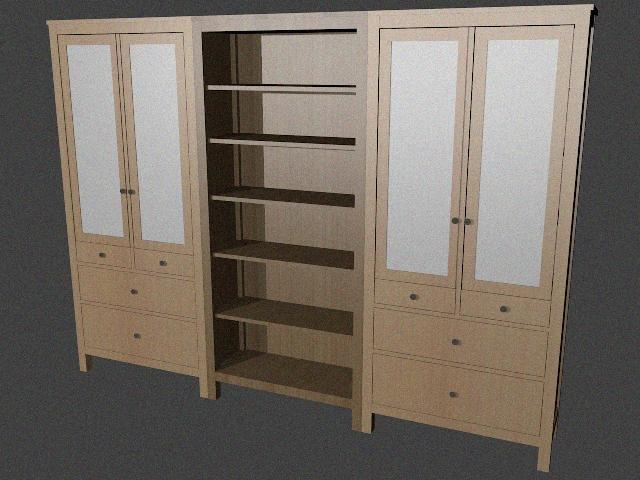cabinet_door: (468, 25, 563, 294), (376, 27, 462, 283), (128, 33, 188, 252), (66, 34, 123, 244), (373, 368, 542, 420), (374, 320, 546, 363), (83, 314, 198, 358), (79, 274, 196, 309), (461, 295, 550, 322), (374, 284, 456, 308), (134, 252, 194, 273), (76, 244, 131, 264)
handle: (445, 387, 459, 401), (449, 335, 461, 351), (128, 285, 141, 299), (156, 256, 169, 270), (131, 330, 144, 343), (127, 186, 139, 199), (96, 250, 108, 262), (499, 304, 510, 316), (409, 290, 420, 302), (463, 216, 474, 228), (450, 217, 460, 225), (119, 186, 126, 196)
